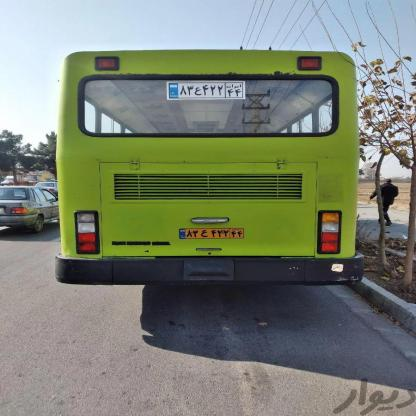Bus: (54, 46, 374, 302)
Car: (0, 186, 56, 230)
